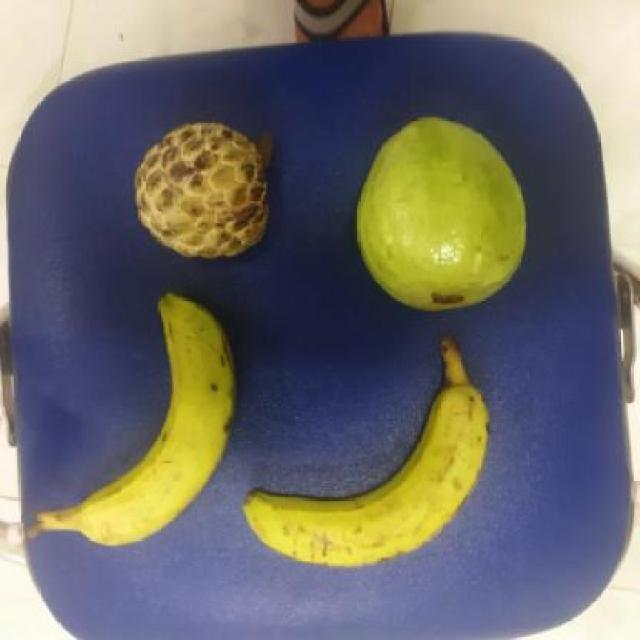banana: (236, 370, 496, 575), (66, 287, 240, 551)
guava: (353, 110, 529, 315)
sugar apple: (125, 113, 276, 269)
